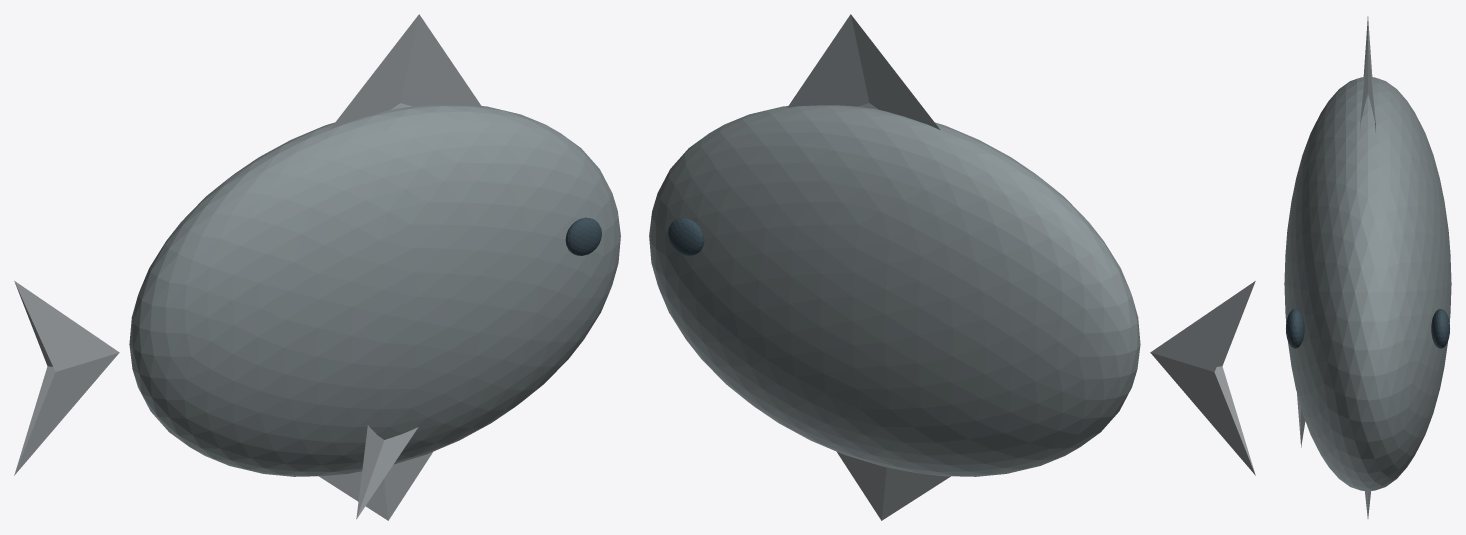
File: Ikan_Bawal_Hitam.glb
The picture shows the model from 3 angles, left to right: view 1: azimuth 30°, elevation 25°; view 2: azimuth 150°, elevation 25°; view 3: azimuth 270°, elevation 25°; orthographic projection.
Visible parts, largest first — view 1: Part_00, Part_01, Part_02, Part_03, Part_04, Part_05; view 2: Part_00, Part_01, Part_02, Part_03, Part_06; view 3: Part_00, Part_05, Part_06, Part_02, Part_01.
Part boxes in pixels (x1,y1,x2,y2): Part_00: (129,105,620,476); Part_01: (14,281,119,475); Part_02: (329,14,482,129); Part_03: (319,452,432,520); Part_04: (356,425,418,519); Part_05: (565,217,601,255); Part_00: (649,105,1140,476); Part_01: (1150,281,1255,475); Part_02: (787,14,940,129); Part_03: (837,452,950,520); Part_06: (668,217,704,255); Part_00: (1284,77,1451,491); Part_05: (1286,309,1304,348); Part_06: (1431,309,1449,348); Part_02: (1360,45,1375,131); Part_01: (1363,16,1372,76).
Size of the model in its own units: 1.3 by 1.03 by 0.3168.
